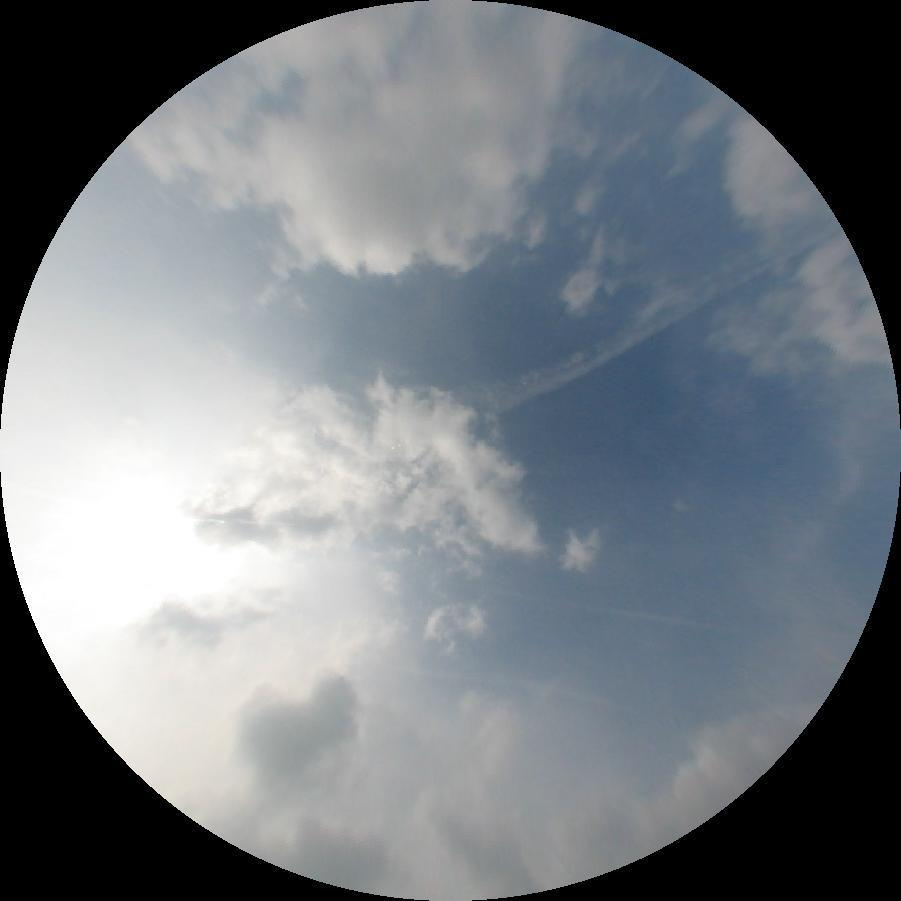contrail veryold: (461, 220, 817, 430)
